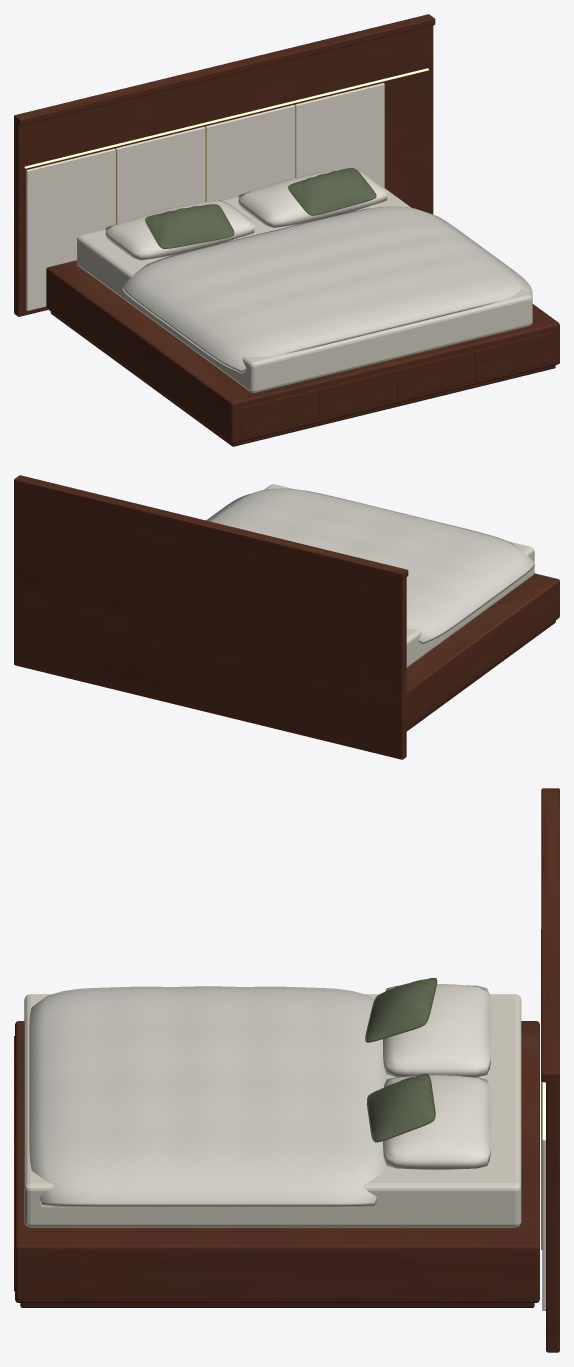
Rendered from main-bed.glb.
The picture shows the model from 3 angles, top to bottom: view 1: azimuth 30°, elevation 25°; view 2: azimuth 150°, elevation 25°; view 3: azimuth 270°, elevation 25°; orthographic projection. The views are drawn at different scales.
Visible parts, largest first — view 1: 2080 by 2040 mm teak platform, Quilted closed duvet, Avena Linen headboard panel, Nominal dimensioned mattress, Plump pillow with closed seams, Olive accent cushion, Shadow reveal plinth, Recessed 3500 K headboard lighting; view 2: 2080 by 2040 mm teak platform, Quilted closed duvet, Nominal dimensioned mattress, Shadow reveal plinth; view 3: Quilted closed duvet, 2080 by 2040 mm teak platform, Nominal dimensioned mattress, Plump pillow with closed seams, Olive accent cushion, Shadow reveal plinth, Avena Linen headboard panel.
Part boxes in pixels (x1,y1,x2,y2): 2080 by 2040 mm teak platform: (14, 14, 559, 443); Quilted closed duvet: (122, 206, 532, 373); Avena Linen headboard panel: (26, 83, 384, 310); Nominal dimensioned mattress: (77, 168, 532, 392); Plump pillow with closed seams: (105, 168, 387, 260); Olive accent cushion: (146, 168, 375, 247); Shadow reveal plinth: (50, 311, 555, 446); Recessed 3500 K headboard lighting: (24, 68, 428, 168); 2080 by 2040 mm teak platform: (14, 475, 559, 759); Quilted closed duvet: (206, 488, 534, 644); Nominal dimensioned mattress: (264, 484, 534, 667); Shadow reveal plinth: (406, 620, 555, 731); Quilted closed duvet: (29, 986, 387, 1207); 2080 by 2040 mm teak platform: (14, 788, 559, 1352); Nominal dimensioned mattress: (24, 994, 521, 1227); Plump pillow with closed seams: (383, 983, 490, 1170); Olive accent cushion: (366, 978, 435, 1140); Shadow reveal plinth: (20, 1303, 534, 1307); Avena Linen headboard panel: (542, 1082, 545, 1310).
Size of the model in its own units: 2.62 by 1.2 by 2.12.
Materials: 10 (4 with a texture image).
